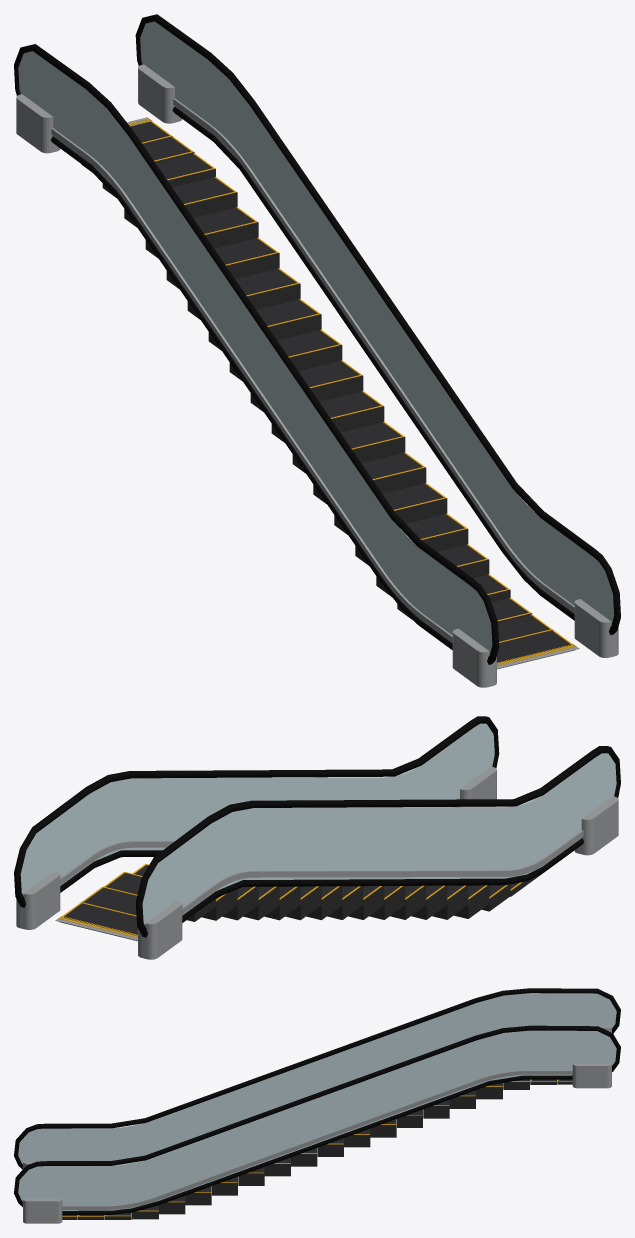
The model's file is gteki_ik_escalator_w990_rise2210_a2193.glb.
3 views of the same model, one above another, from view 1: azimuth 30°, elevation 25°; view 2: azimuth 150°, elevation 25°; view 3: azimuth 270°, elevation 25° (orthographic). The views are drawn at different scales.
Visible parts, largest first — view 1: VIS_body; view 2: VIS_body; view 3: VIS_body.
Part boxes in pixels (<box>): VIS_body: <box>14,14,620,687</box>; VIS_body: <box>14,716,620,959</box>; VIS_body: <box>14,988,620,1223</box>.
Bounding box in the file's own units: 1.51 × 3.24 × 8.98.
2 materials, 2 textured.
